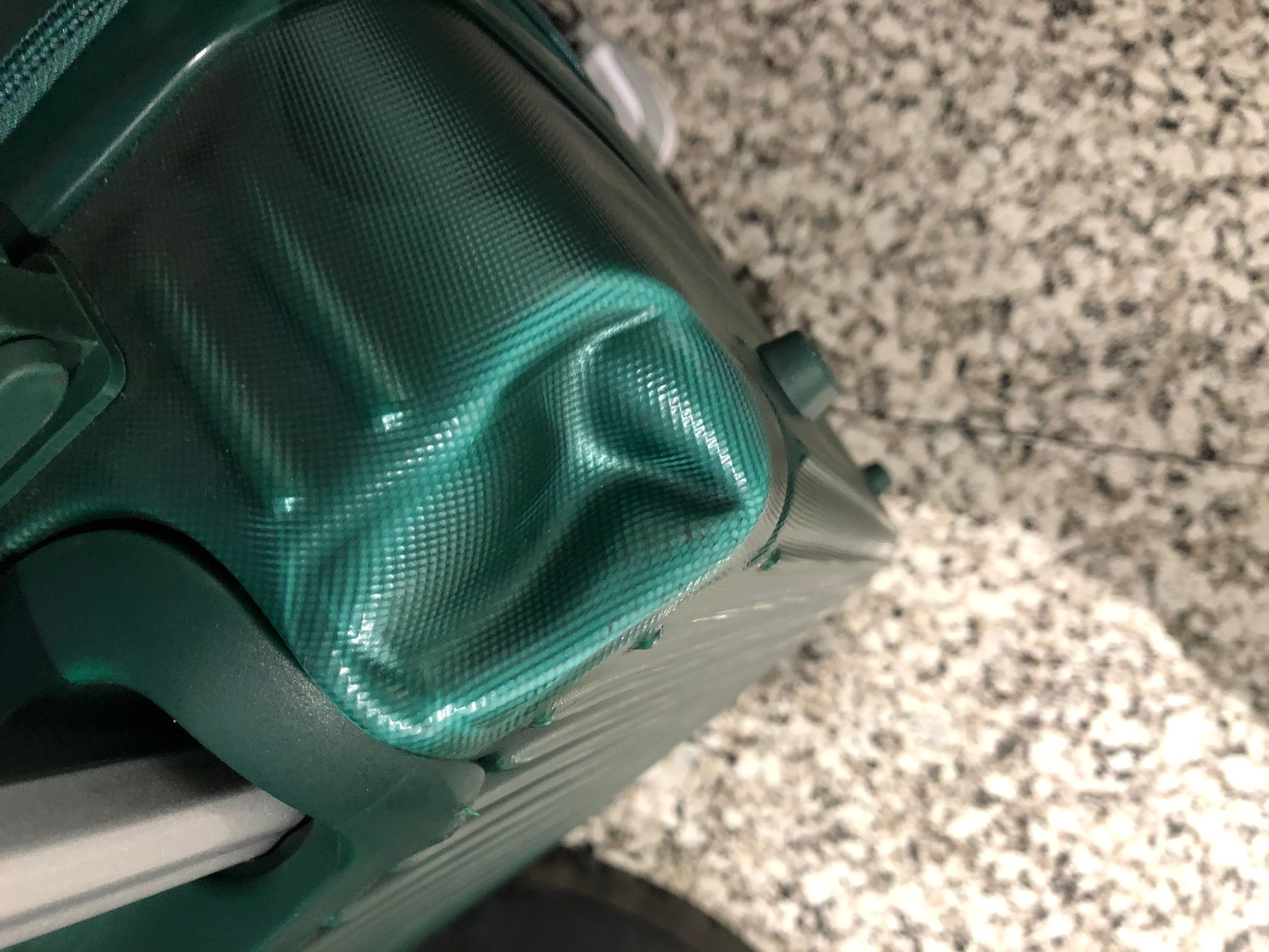rupture: (340, 271, 763, 741)
